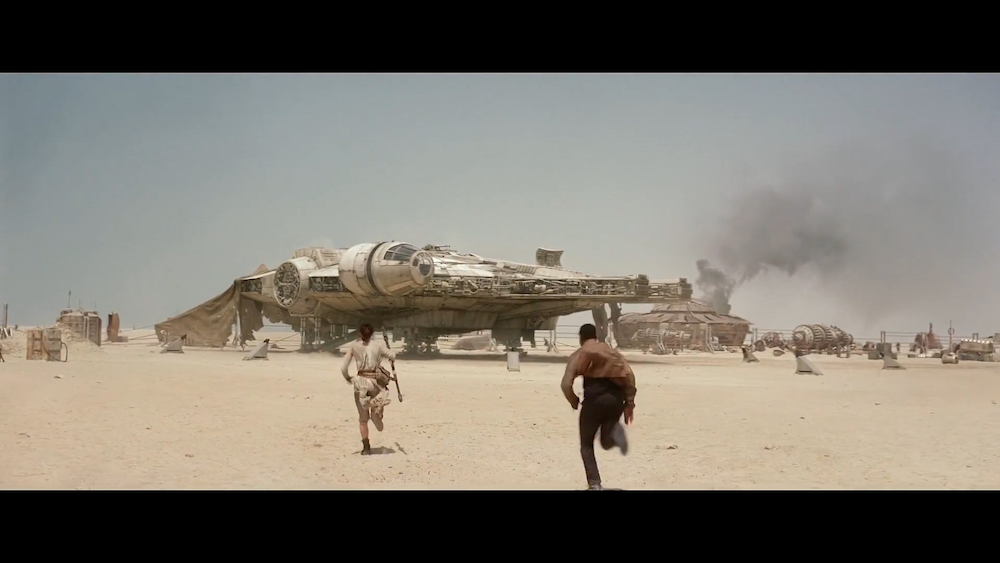Millennium Falcon: (235, 246, 694, 333)
